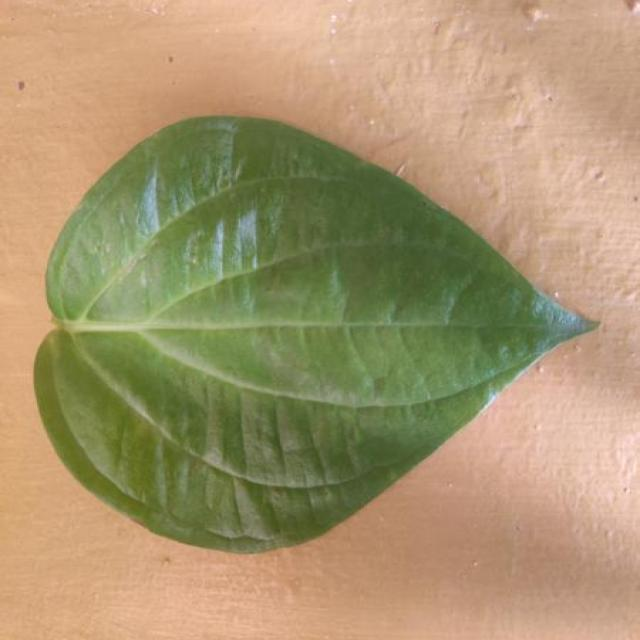betel: (35, 116, 595, 552)
